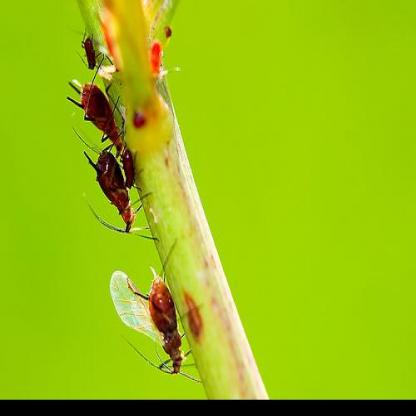aphid: (102, 265, 206, 390), (73, 144, 145, 231), (68, 84, 126, 150), (73, 31, 113, 76), (112, 140, 146, 190)
